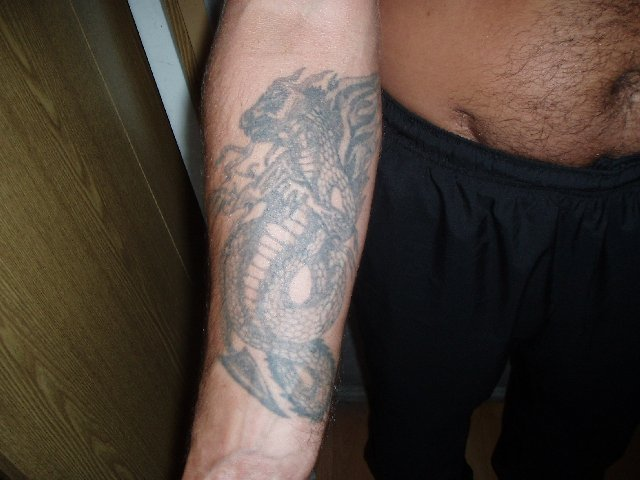tatu3_bukva: (189, 44, 377, 424)
